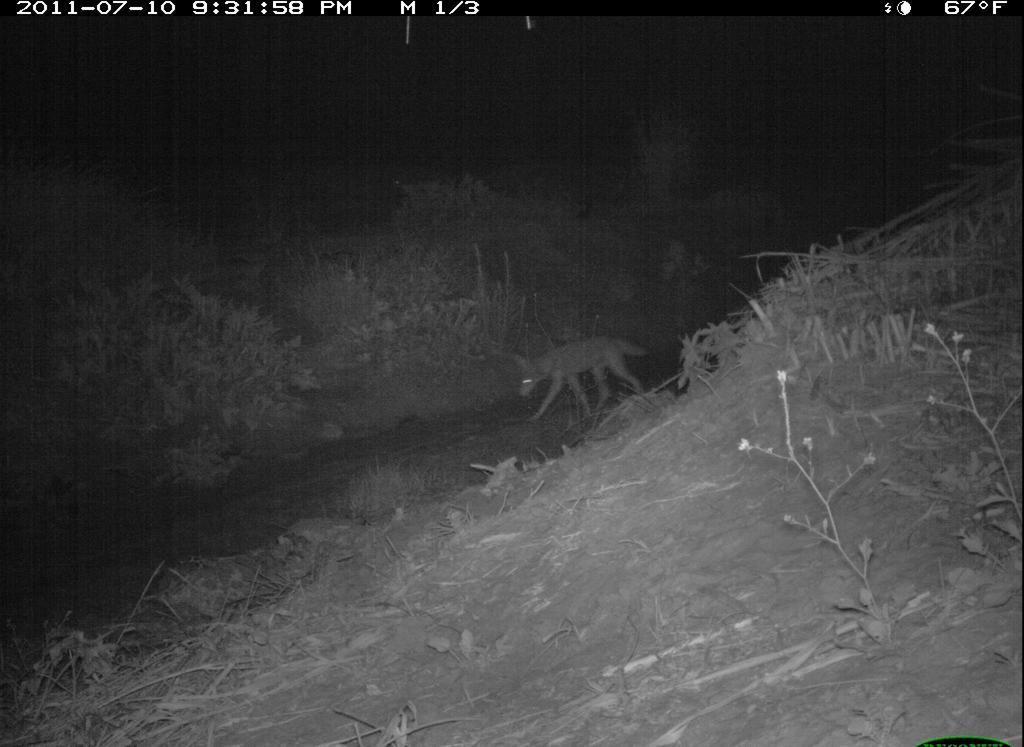coyote: (496, 317, 671, 429)
